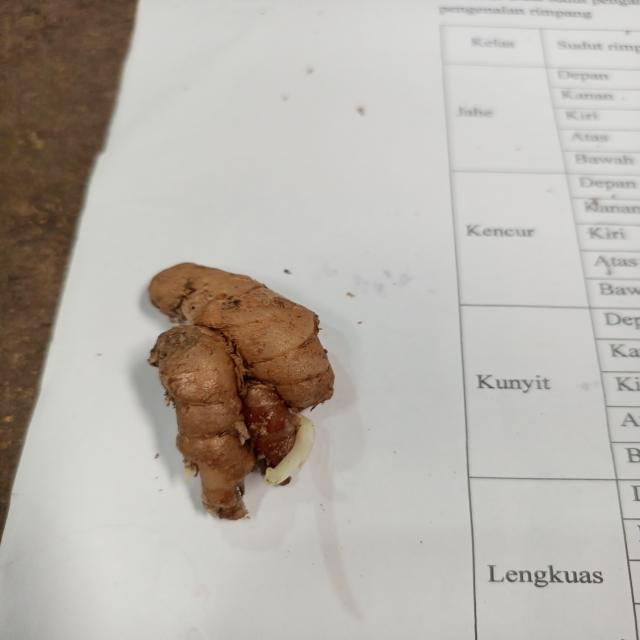ginger: (144, 260, 338, 500)
